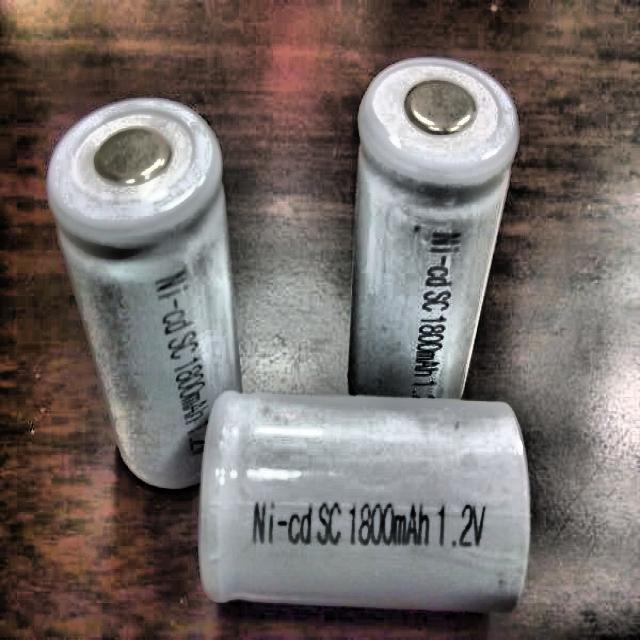Non-Valuable Waste - Batteries: (48, 98, 241, 488), (200, 392, 530, 609), (349, 58, 518, 398)
